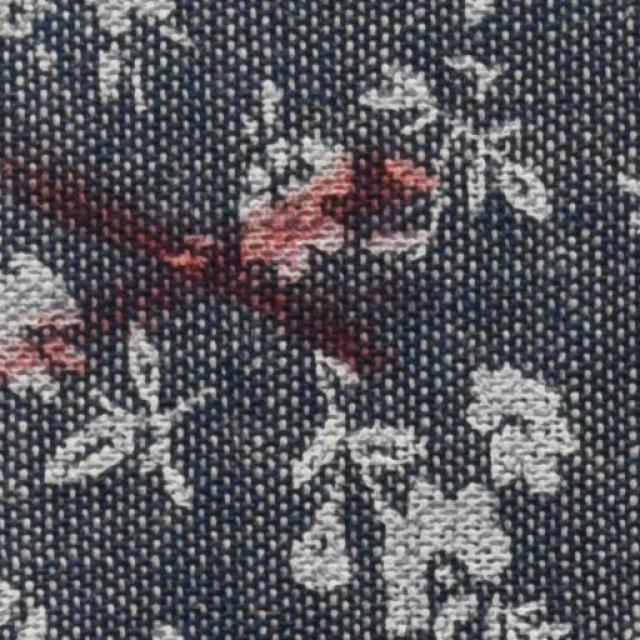Stain: (0, 137, 429, 384)
